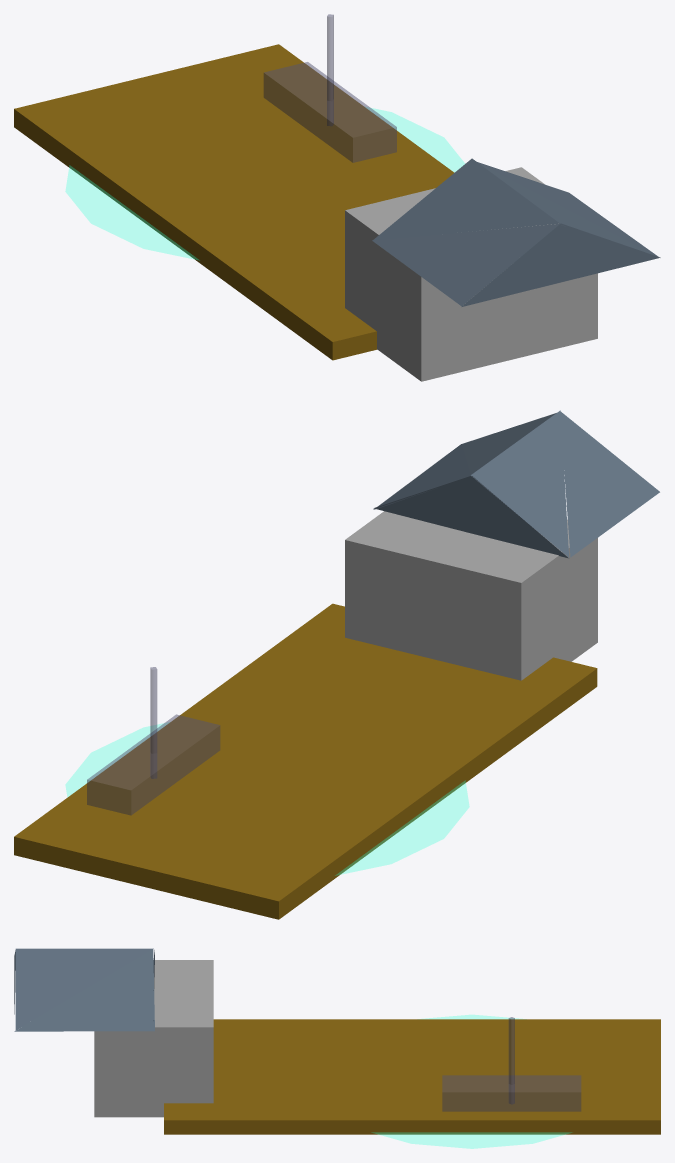
File: dock_t4.glb
3 views of the same model, one above another, from view 1: azimuth 30°, elevation 25°; view 2: azimuth 150°, elevation 25°; view 3: azimuth 270°, elevation 25° (orthographic). The views are drawn at different scales.
Visible parts, largest first — view 1: building-dock; view 2: building-dock; view 3: building-dock.
Boxes of the visible parts, <box> form: building-dock: <box>14,14,660,381</box>; building-dock: <box>14,410,659,919</box>; building-dock: <box>14,948,660,1148</box>.
Bounding box in the file's own units: 0.3014 × 0.1422 × 0.6131.
